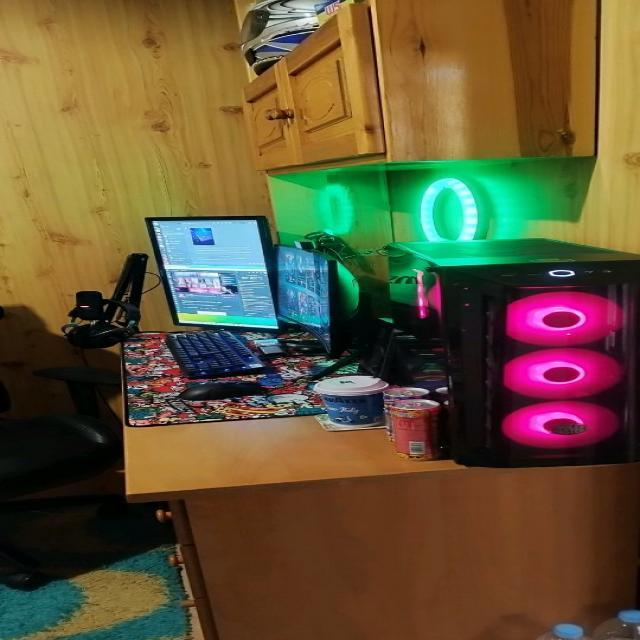Computer-Keyboard: (167, 329, 273, 377)
Computer-Mouse: (182, 372, 274, 404)
Desktop-PC: (362, 235, 640, 481)
Flat-Panel-Monitor: (148, 210, 278, 334)
